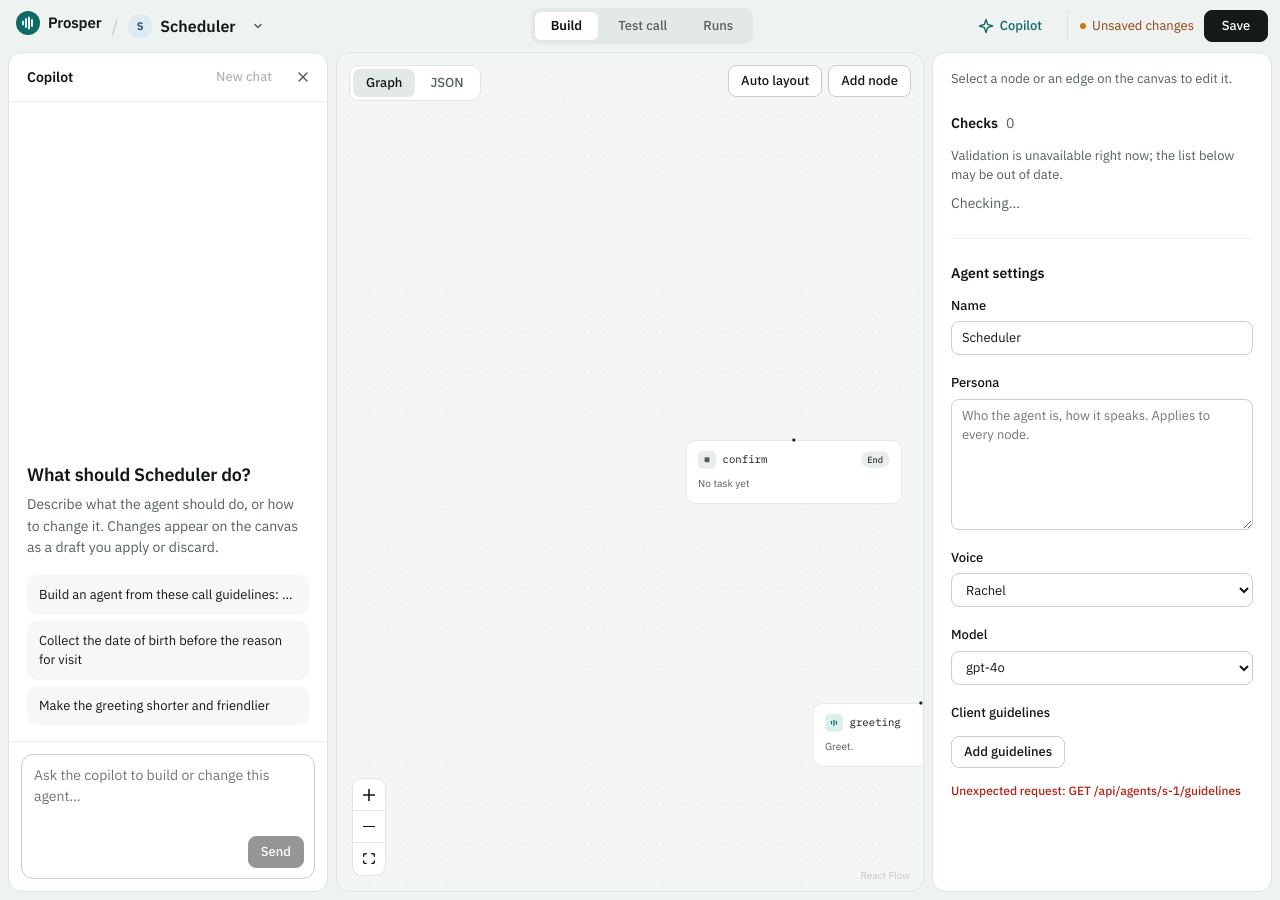
Test case: a moved node's position is saved in the layout and Auto layout resets it
Expected: the element named "Dock" is shown, [932,52,1272,892]
Click the button "Save".
click(1236, 26)  # box [1204,10,1268,42]
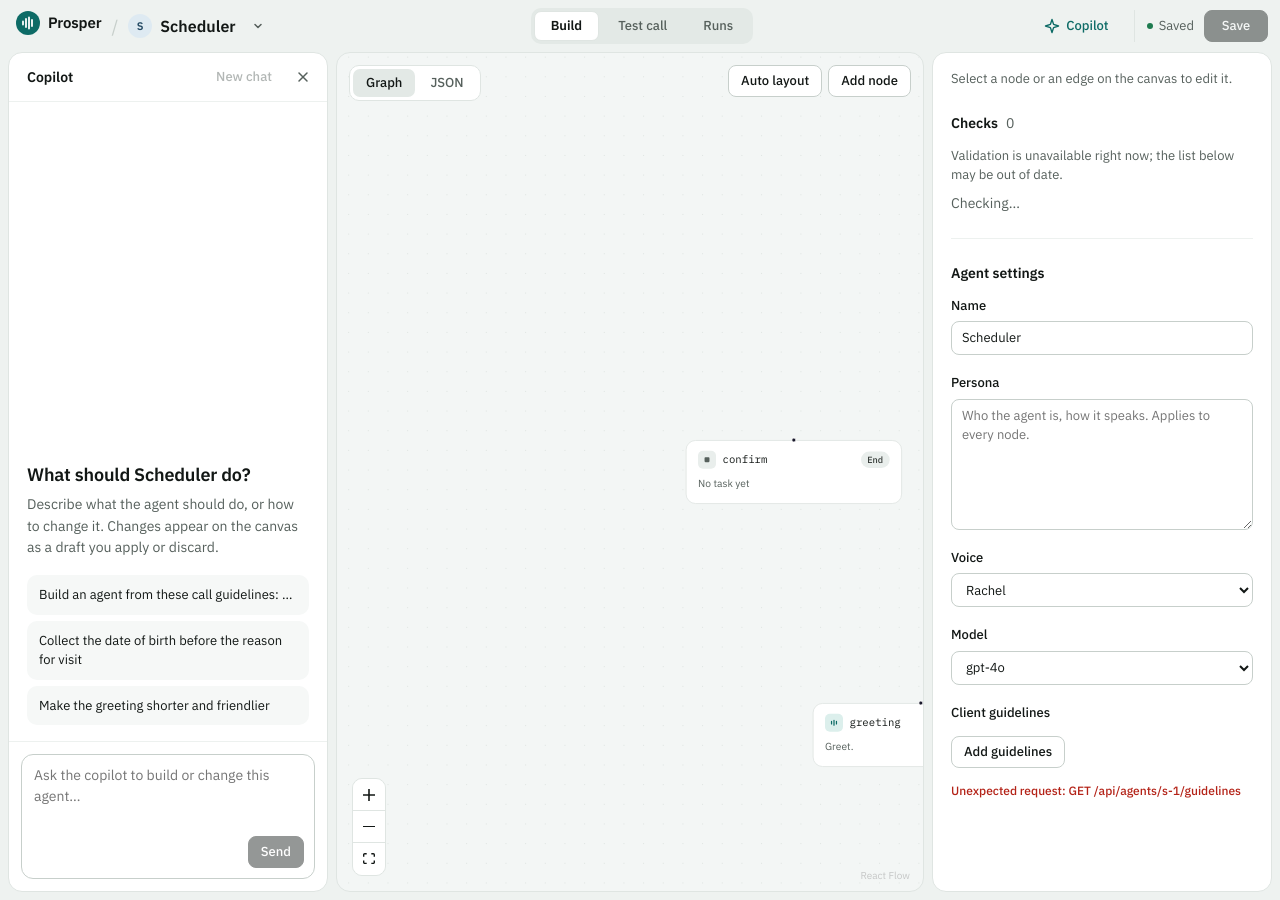
Result: the text with test id "save-status" reads "Saved" at [1159,17,1194,34]
Click the button "Auto layout".
click(775, 81)  # box [728,65,822,97]
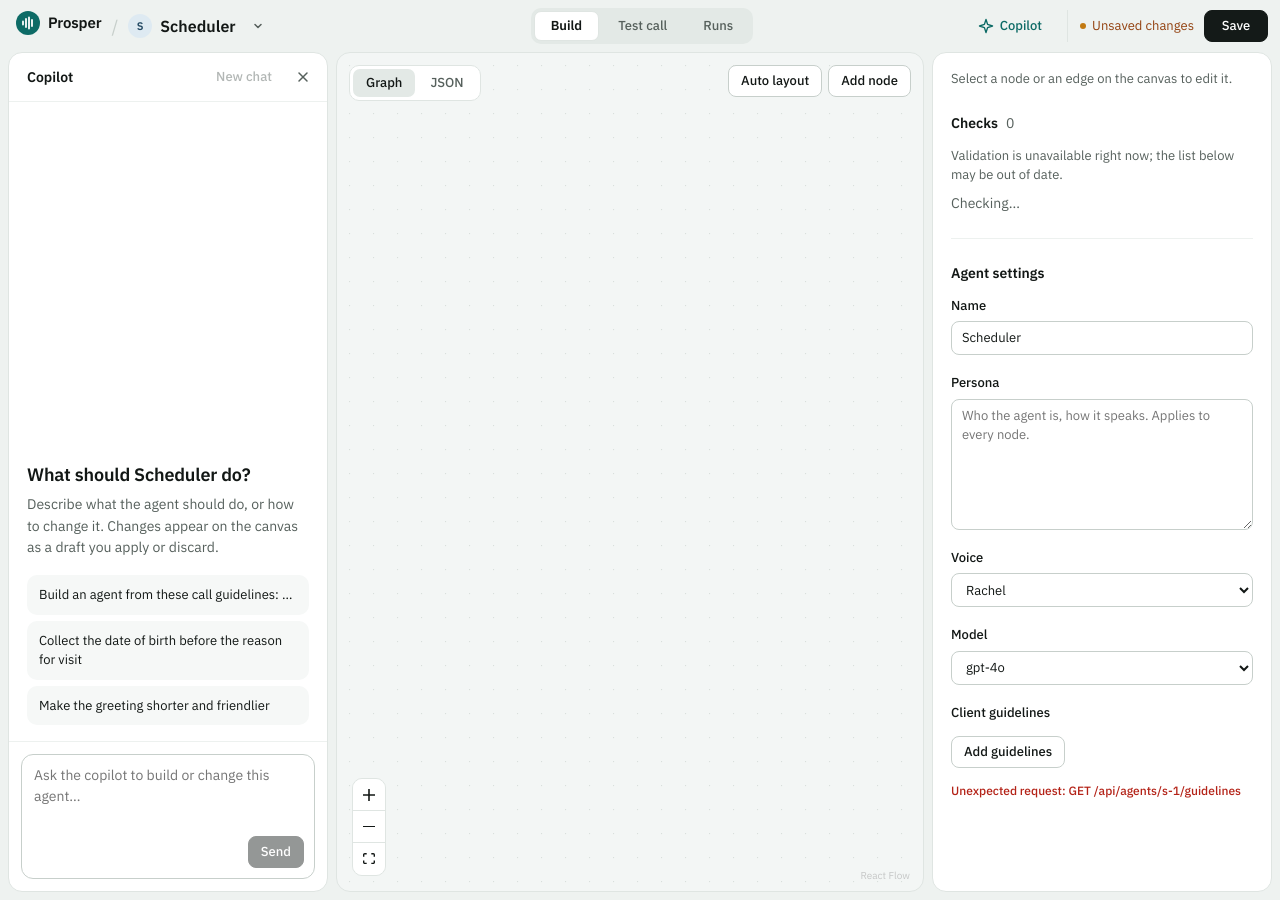
Result: the text with test id "save-status" reads "Unsaved changes" at [1092,17,1194,34]
